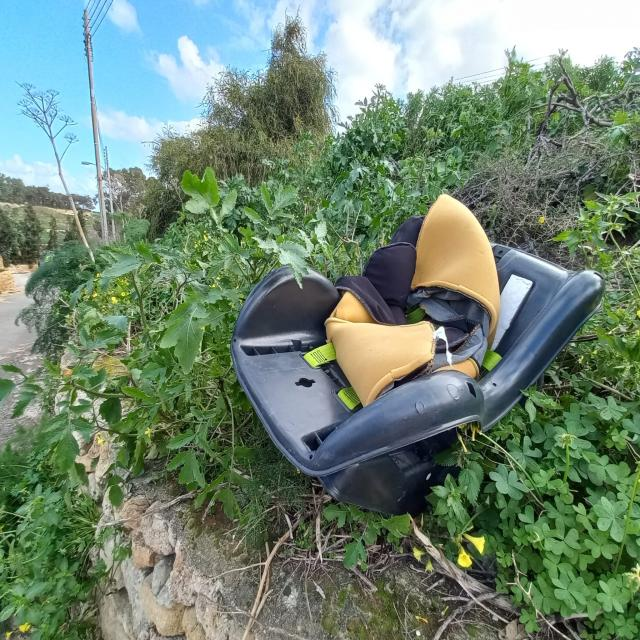Other litter: (229, 193, 608, 516)
